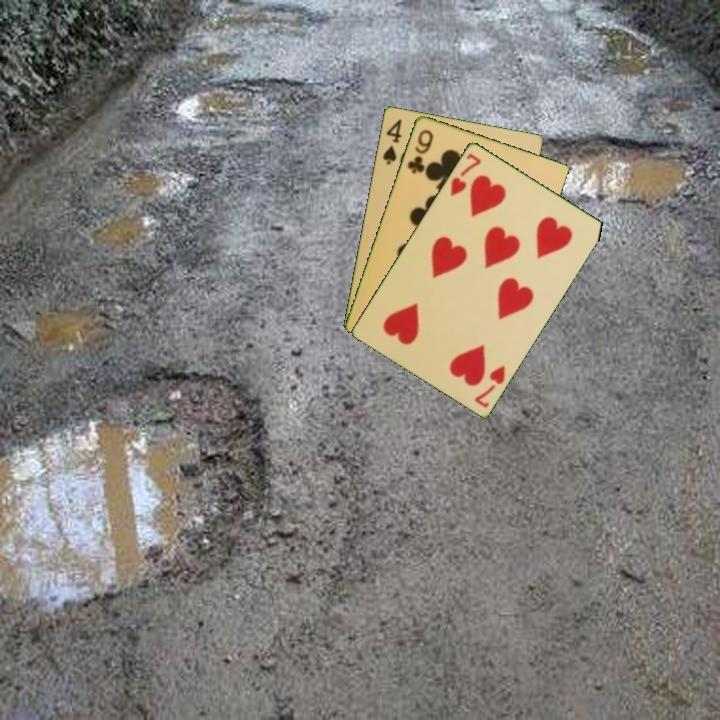4s: (379, 115, 404, 167)
7h: (446, 149, 484, 199), (471, 361, 508, 410)
9c: (403, 125, 436, 176)
